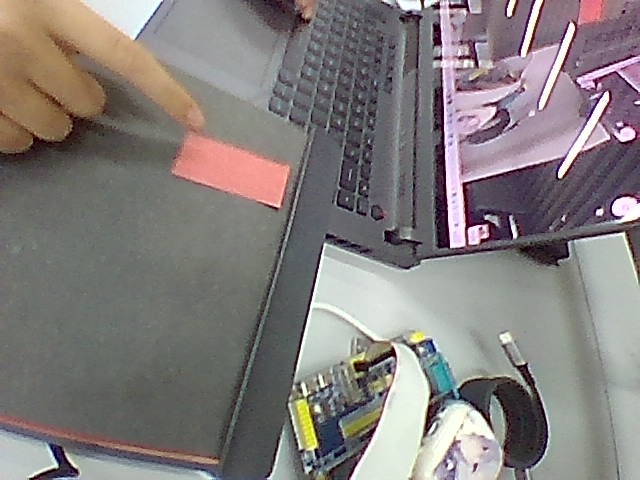card: (172, 134, 289, 208)
